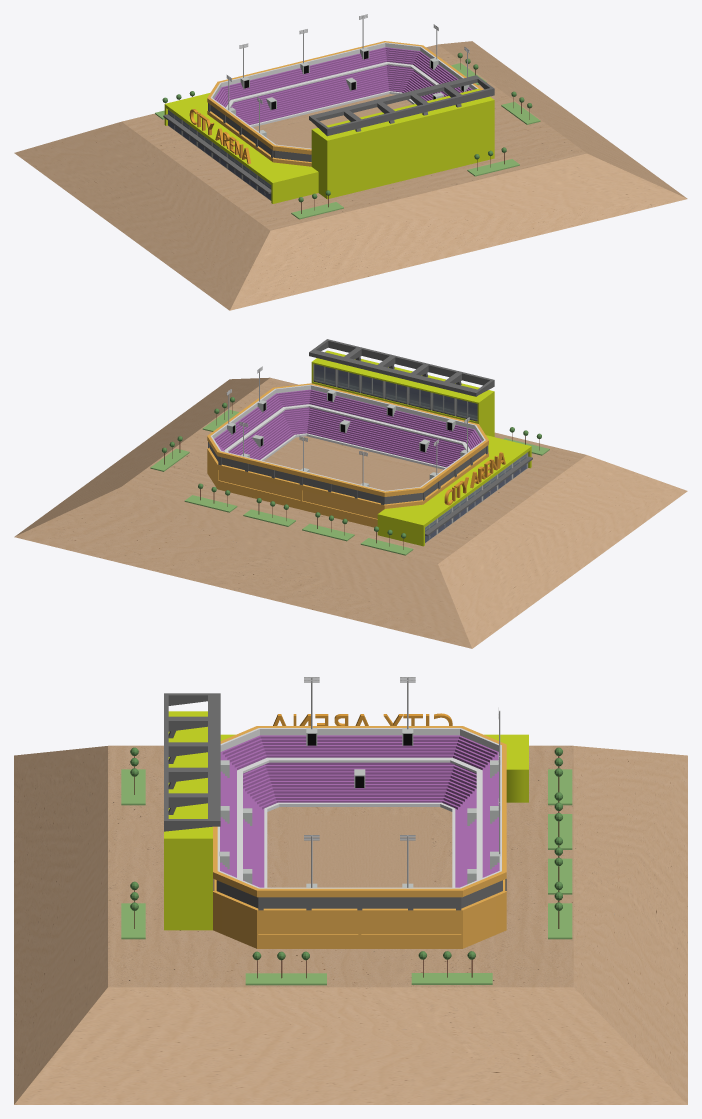
Rendered from Estadio.obj.
3 views of the same model, one above another, from view 1: azimuth 30°, elevation 25°; view 2: azimuth 150°, elevation 25°; view 3: azimuth 270°, elevation 25° (orthographic). The views are drawn at different scales.
Parts seen in each view (by area): view 1: Base, arena.001, sand; view 2: Base, arena.001, sand; view 3: Base, arena.001, sand.
Part boxes in pixels (x1,y1,x2,y2): Base: [14, 41, 687, 310]; arena.001: [155, 14, 540, 219]; sand: [265, 102, 400, 148]; Base: [14, 377, 687, 648]; arena.001: [150, 339, 549, 555]; sand: [275, 442, 431, 490]; Base: [14, 745, 687, 1104]; arena.001: [121, 677, 572, 985]; sand: [288, 815, 431, 887].
Bounding box in the file's own units: 345 × 80.16 × 281.
Materials: 2 (2 with a texture image).
